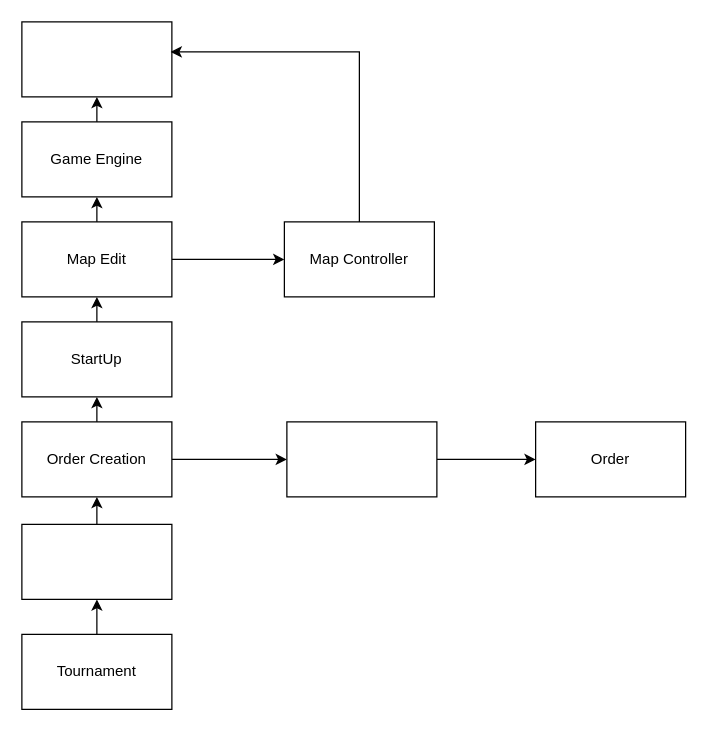
This 708x731 diagram has some shape labels left out. Each missing label, with the box of its shape:
Map: (21, 21, 172, 97)
Order execution: (21, 523, 172, 599)
Player: (286, 421, 437, 497)
